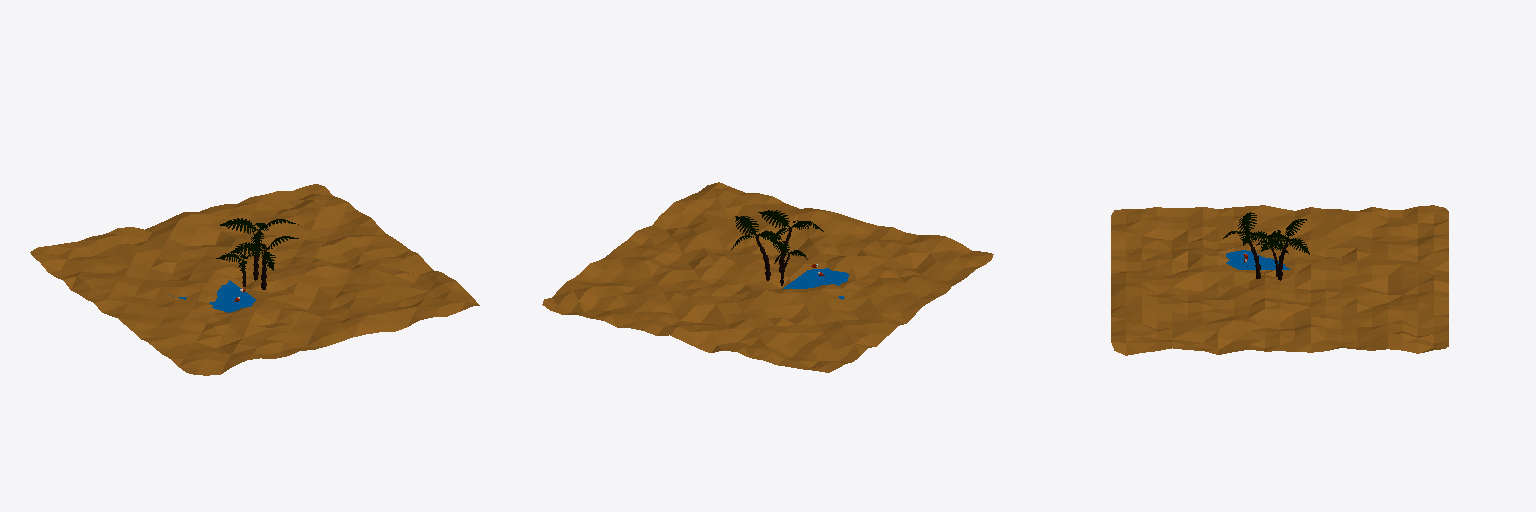
The model's file is desierto.obj.
3 views of the same model, side by side, from view 1: azimuth 30°, elevation 25°; view 2: azimuth 150°, elevation 25°; view 3: azimuth 270°, elevation 25° (orthographic).
Visible parts, largest first — view 1: Sol_Plane.001, Plane_Plane.004, Palmier.001_Cylinder.003, Palmier_Cylinder.002; view 2: Sol_Plane.001, Plane_Plane.004, Palmier_Cylinder.002, Palmier.001_Cylinder.003; view 3: Sol_Plane.001, Plane_Plane.004, Palmier_Cylinder.002, Palmier.001_Cylinder.003.
Part boxes in pixels (bbox=[...]): Sol_Plane.001: bbox=[30, 184, 479, 375]; Plane_Plane.004: bbox=[170, 280, 255, 312]; Palmier.001_Cylinder.003: bbox=[228, 236, 298, 289]; Palmier_Cylinder.002: bbox=[220, 218, 298, 280]; Sol_Plane.001: bbox=[542, 182, 993, 372]; Plane_Plane.004: bbox=[783, 268, 848, 299]; Palmier_Cylinder.002: bbox=[731, 216, 781, 280]; Palmier.001_Cylinder.003: bbox=[758, 210, 823, 272]; Sol_Plane.001: bbox=[1111, 205, 1448, 355]; Plane_Plane.004: bbox=[1226, 243, 1290, 269]; Palmier_Cylinder.002: bbox=[1265, 219, 1309, 280]; Palmier.001_Cylinder.003: bbox=[1223, 212, 1271, 278].
Size of the model in its own units: 2.04 by 0.4161 by 2.04.